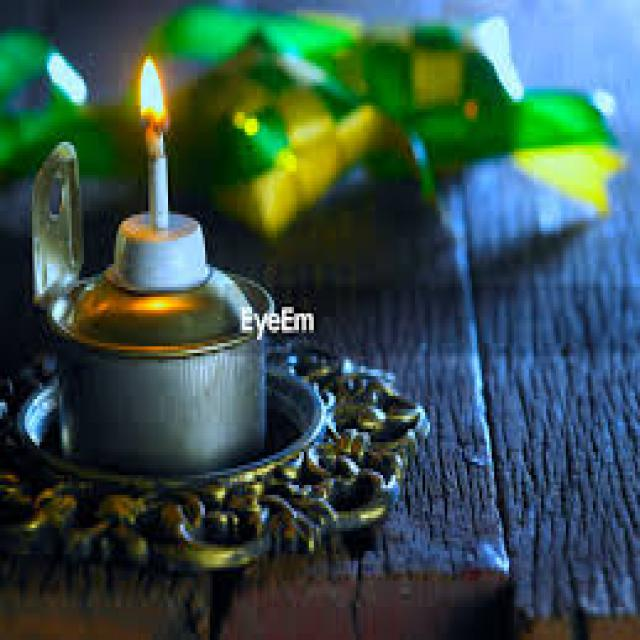fire: (132, 51, 171, 146)
